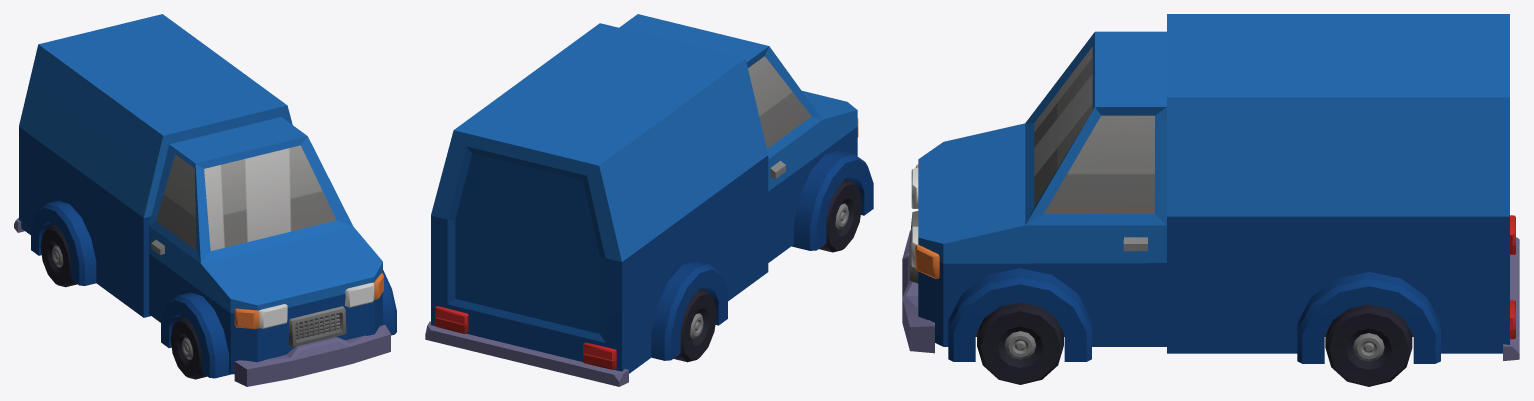
Rendered from Van_3.fbx.
The picture shows the model from 3 angles, left to right: view 1: azimuth 30°, elevation 25°; view 2: azimuth 150°, elevation 25°; view 3: azimuth 270°, elevation 25°; orthographic projection. The views are drawn at different scales.
Visible parts, largest first — view 1: Van_3, wheel_FR, wheel_BR; view 2: Van_3, wheel_BR, wheel_FR; view 3: Van_3, wheel_BL, wheel_FL.
Part boxes in pixels (<box>): Van_3: <box>14,14,396,386</box>; wheel_FR: <box>170,317,207,379</box>; wheel_BR: <box>40,224,77,287</box>; Van_3: <box>425,14,873,386</box>; wheel_BR: <box>673,289,716,362</box>; wheel_FR: <box>819,179,861,252</box>; Van_3: <box>902,14,1519,363</box>; wheel_BL: <box>1325,304,1412,386</box>; wheel_FL: <box>977,302,1063,384</box>.
Bounding box in the file's own units: 1.23 × 1.19 × 2.48.
